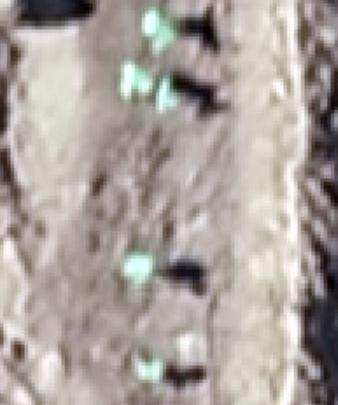cotton: (120, 64, 151, 96), (144, 12, 172, 47), (119, 253, 150, 280), (140, 362, 166, 383), (161, 77, 177, 108)
